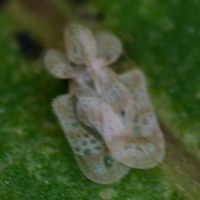insect: (44, 23, 164, 183)
